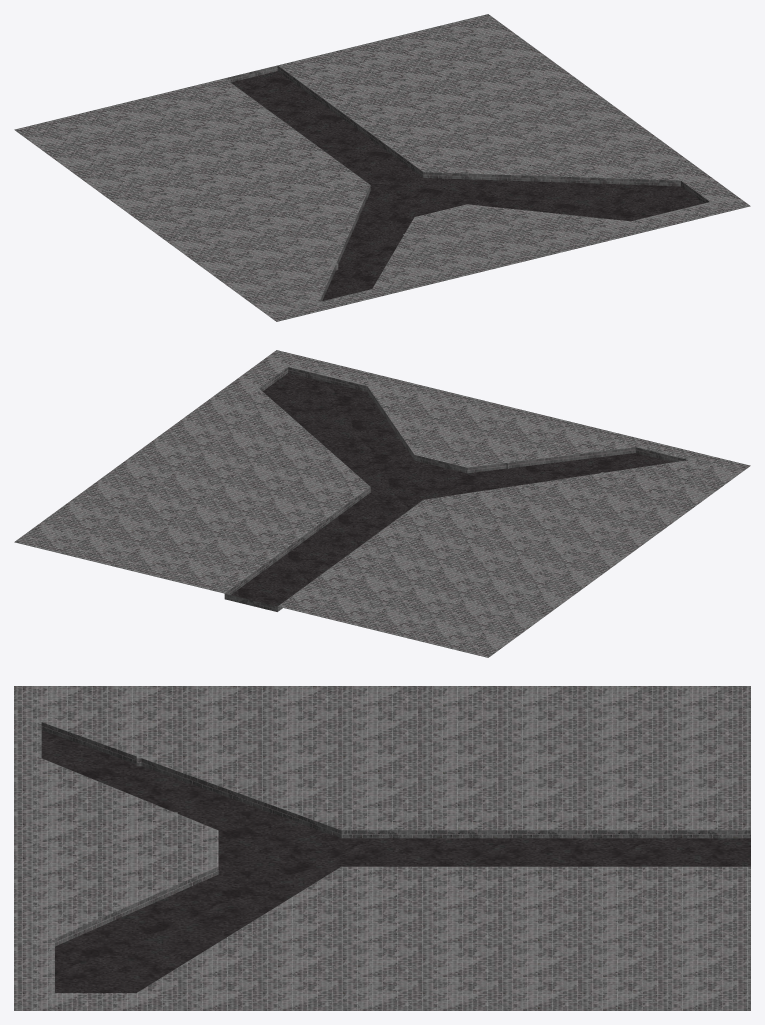
File: ground.glb
3 views of the same model, one above another, from view 1: azimuth 30°, elevation 25°; view 2: azimuth 150°, elevation 25°; view 3: azimuth 270°, elevation 25° (orthographic). The views are drawn at different scales.
Parts seen in each view (by area): view 1: Ground; view 2: Ground; view 3: Ground.
Boxes of the visible parts, x1,y1,x2,y2 form: Ground: (14, 14, 750, 321); Ground: (14, 350, 750, 657); Ground: (14, 686, 750, 1010).
Bounding box in the file's own units: 65.75 × 0.748 × 63.06.
1 material, 1 textured.
